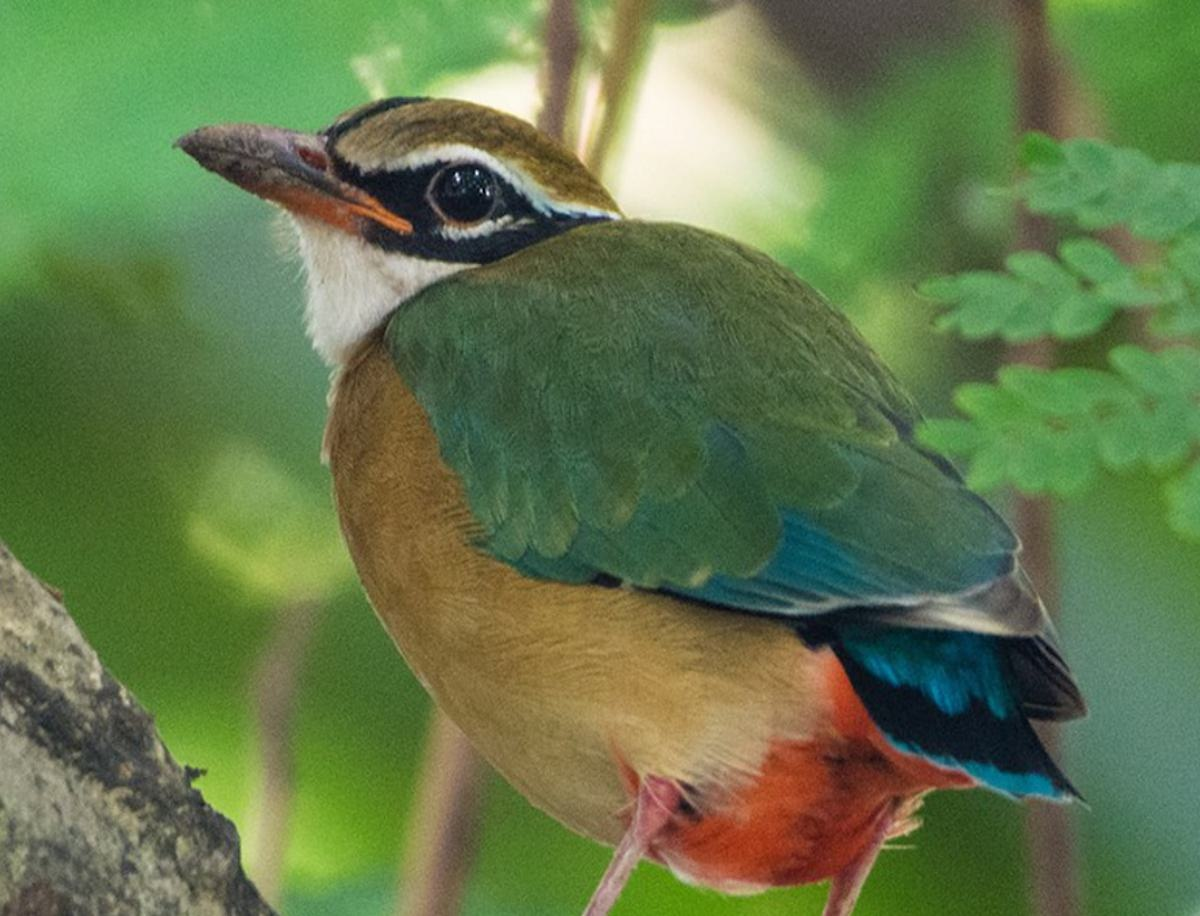pitta: (124, 83, 1200, 915)
